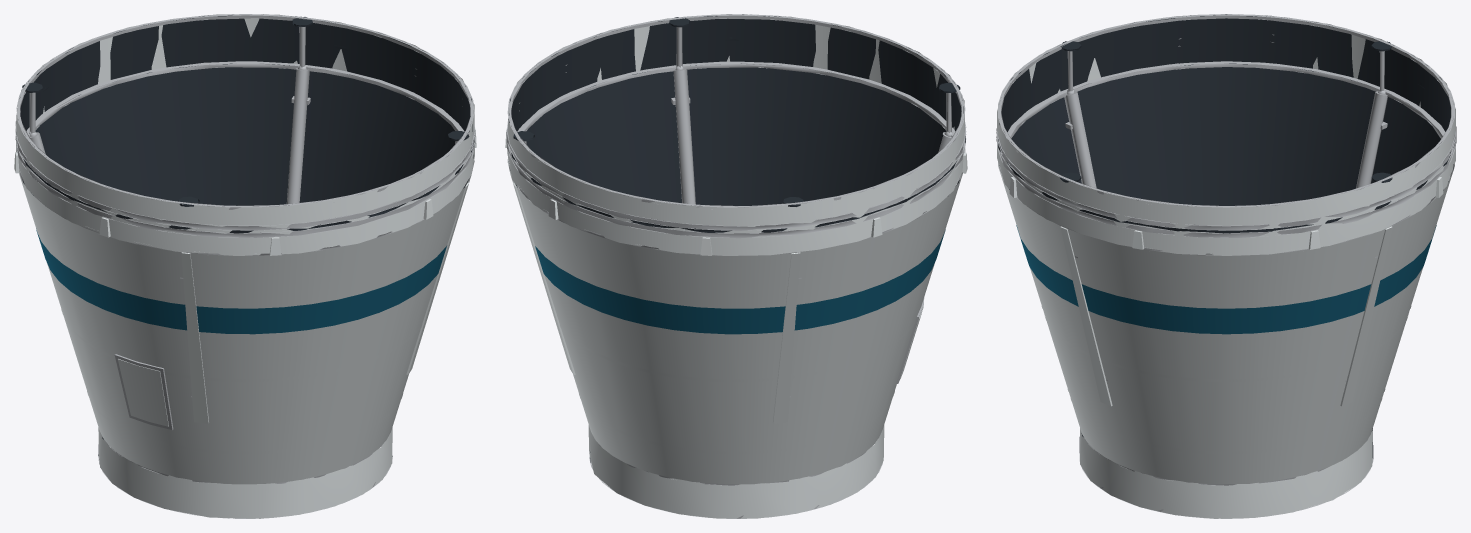
The model's file is interstage_pneumatic_d54_to_d84.glb.
The picture shows the model from 3 angles, left to right: view 1: azimuth 30°, elevation 25°; view 2: azimuth 150°, elevation 25°; view 3: azimuth 270°, elevation 25°; orthographic projection.
Visible parts, largest first — view 1: interstage_pneumatic_d54_to_d84_mesh; view 2: interstage_pneumatic_d54_to_d84_mesh; view 3: interstage_pneumatic_d54_to_d84_mesh.
Boxes of the visible parts, x1,y1,x2,y2 form: interstage_pneumatic_d54_to_d84_mesh: [14, 14, 476, 518]; interstage_pneumatic_d54_to_d84_mesh: [505, 14, 967, 518]; interstage_pneumatic_d54_to_d84_mesh: [996, 14, 1456, 518].
Bounding box in the file's own units: 8.43 × 7 × 8.45.
